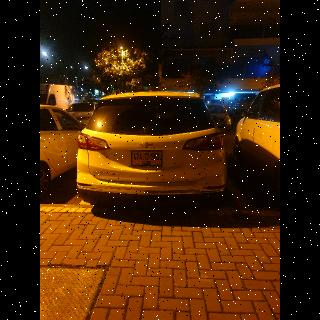LicensePlate: (133, 152, 161, 161)
